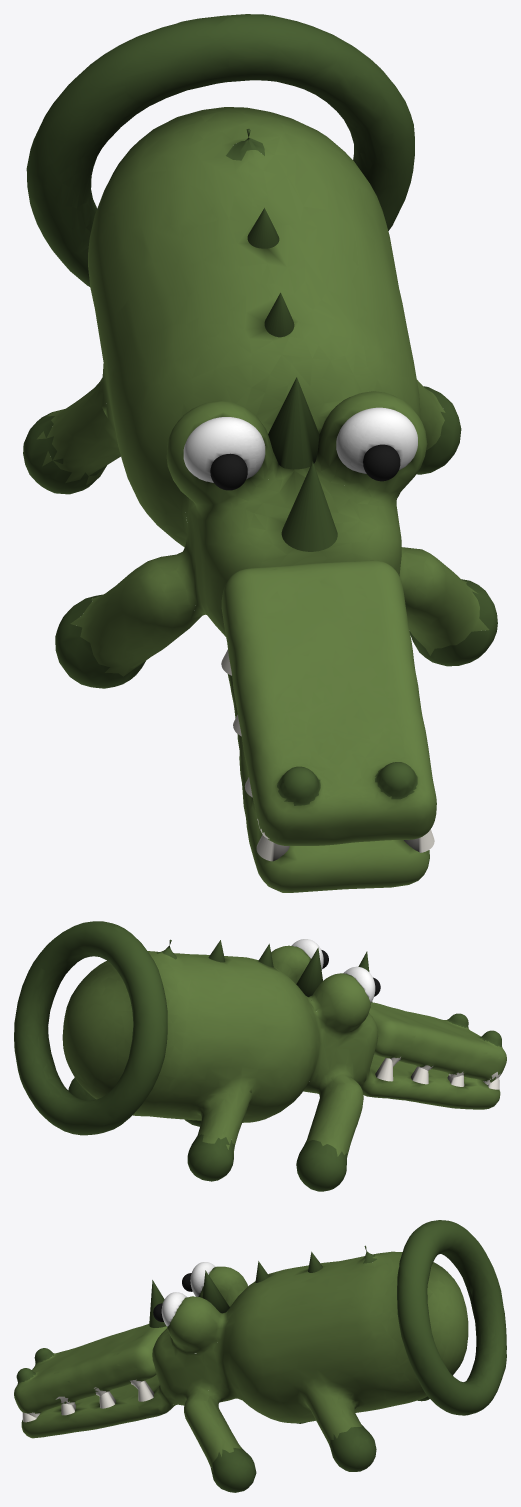
The model's file is det-ar-akut.glb.
The picture shows the model from 3 angles, top to bottom: view 1: azimuth 30°, elevation 25°; view 2: azimuth 150°, elevation 25°; view 3: azimuth 270°, elevation 25°; orthographic projection. The views are drawn at different scales.
Visible parts, largest first — view 1: jacare__r0, mandibula__r0, jacare__r5, jacare__r11, jacare__r15, jacare__r16, jacare__r6, jacare__r12; view 2: jacare__r0, mandibula__r0, jacare__r15, jacare__r5, jacare__r11, jacare__r1; view 3: jacare__r0, mandibula__r0, jacare__r15, jacare__r11, jacare__r5, jacare__r16.
Part boxes in pixels (bbox=[...]): jacare__r0: bbox=[23, 14, 497, 892]; mandibula__r0: bbox=[221, 560, 436, 845]; jacare__r5: bbox=[183, 417, 265, 482]; jacare__r11: bbox=[336, 407, 417, 473]; jacare__r15: bbox=[268, 377, 319, 469]; jacare__r16: bbox=[281, 461, 337, 551]; jacare__r6: bbox=[210, 453, 247, 490]; jacare__r12: bbox=[363, 444, 400, 481]; jacare__r0: bbox=[14, 921, 500, 1191]; mandibula__r0: bbox=[369, 1002, 506, 1084]; jacare__r15: bbox=[296, 947, 322, 996]; jacare__r5: bbox=[343, 966, 375, 1002]; jacare__r11: bbox=[291, 939, 323, 970]; jacare__r1: bbox=[375, 1058, 393, 1081]; jacare__r0: bbox=[21, 1220, 506, 1492]; mandibula__r0: bbox=[14, 1324, 167, 1417]; jacare__r15: bbox=[202, 1270, 229, 1313]; jacare__r11: bbox=[161, 1292, 186, 1326]; jacare__r5: bbox=[190, 1262, 215, 1296]; jacare__r16: bbox=[149, 1280, 166, 1327].
Size of the model in its own units: 1.09 by 1.06 by 1.79.
